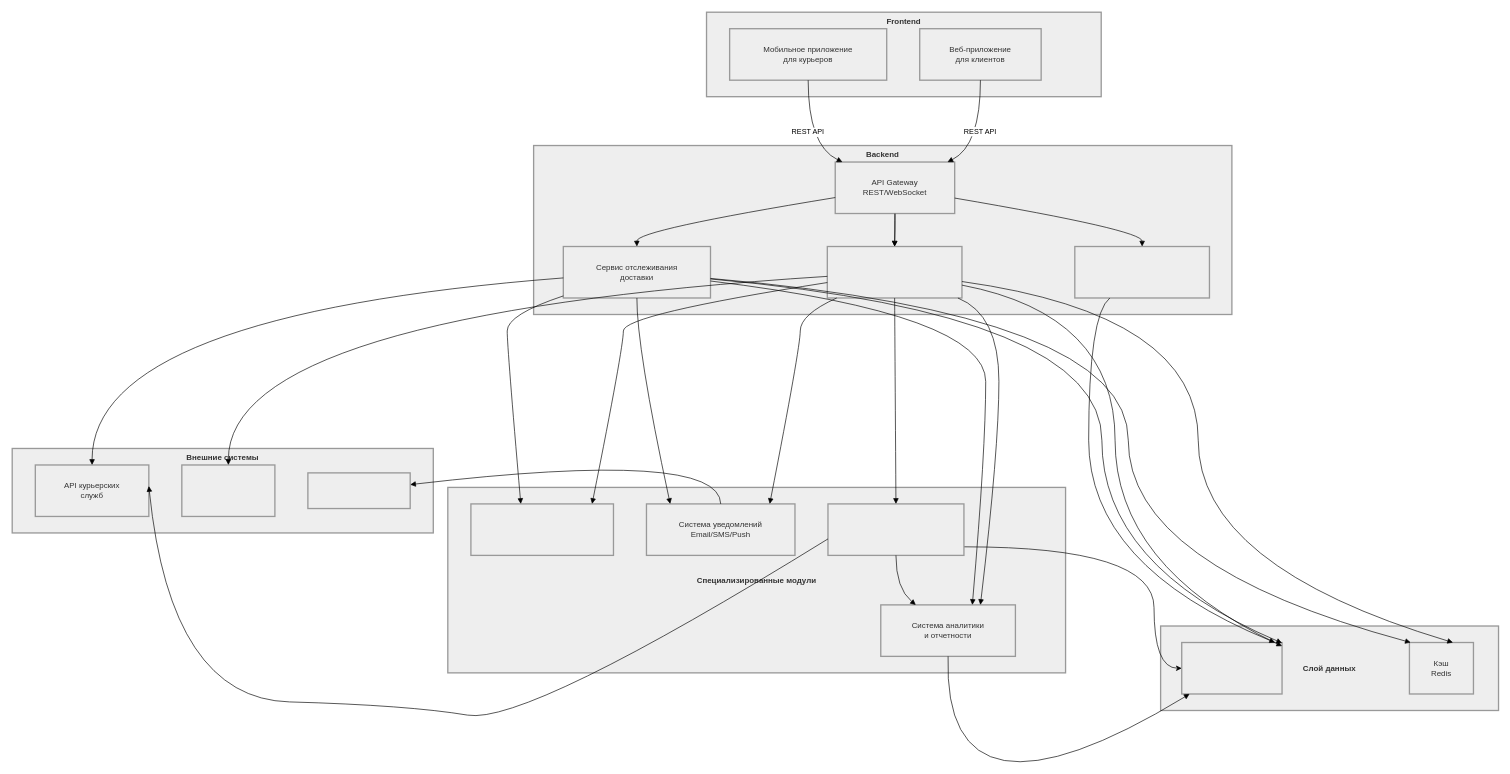
Image size: 1510x774. Some labels were removed from this diagram. Here are the shapes that lost their labels. From the top down, the centre of each, then its label:
[894,272]: Сервис управления заказами
[1142,272]: Сервис управления клиентами
[228,490]: Платежная система
[359,490]: Email сервис
[542,529]: Модуль оптимизации маршрутов
[895,529]: Модуль управления складом
[1231,668]: База данных PostgreSQL
